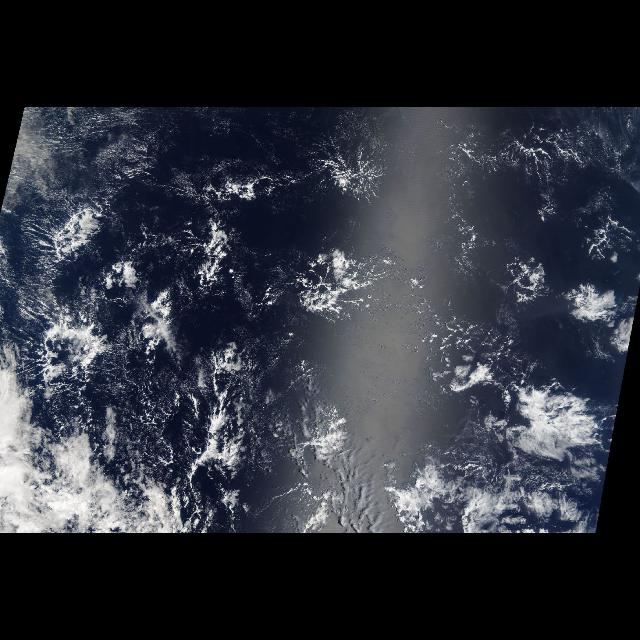Flower: (35, 134, 618, 443)
Sugar: (430, 117, 636, 283)
